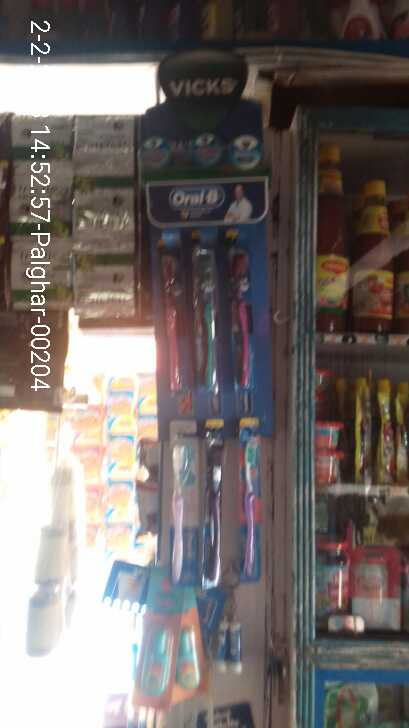oralb: (196, 426, 233, 592), (186, 226, 218, 412), (226, 237, 258, 403), (149, 242, 181, 396), (238, 423, 264, 587), (163, 437, 189, 589)
